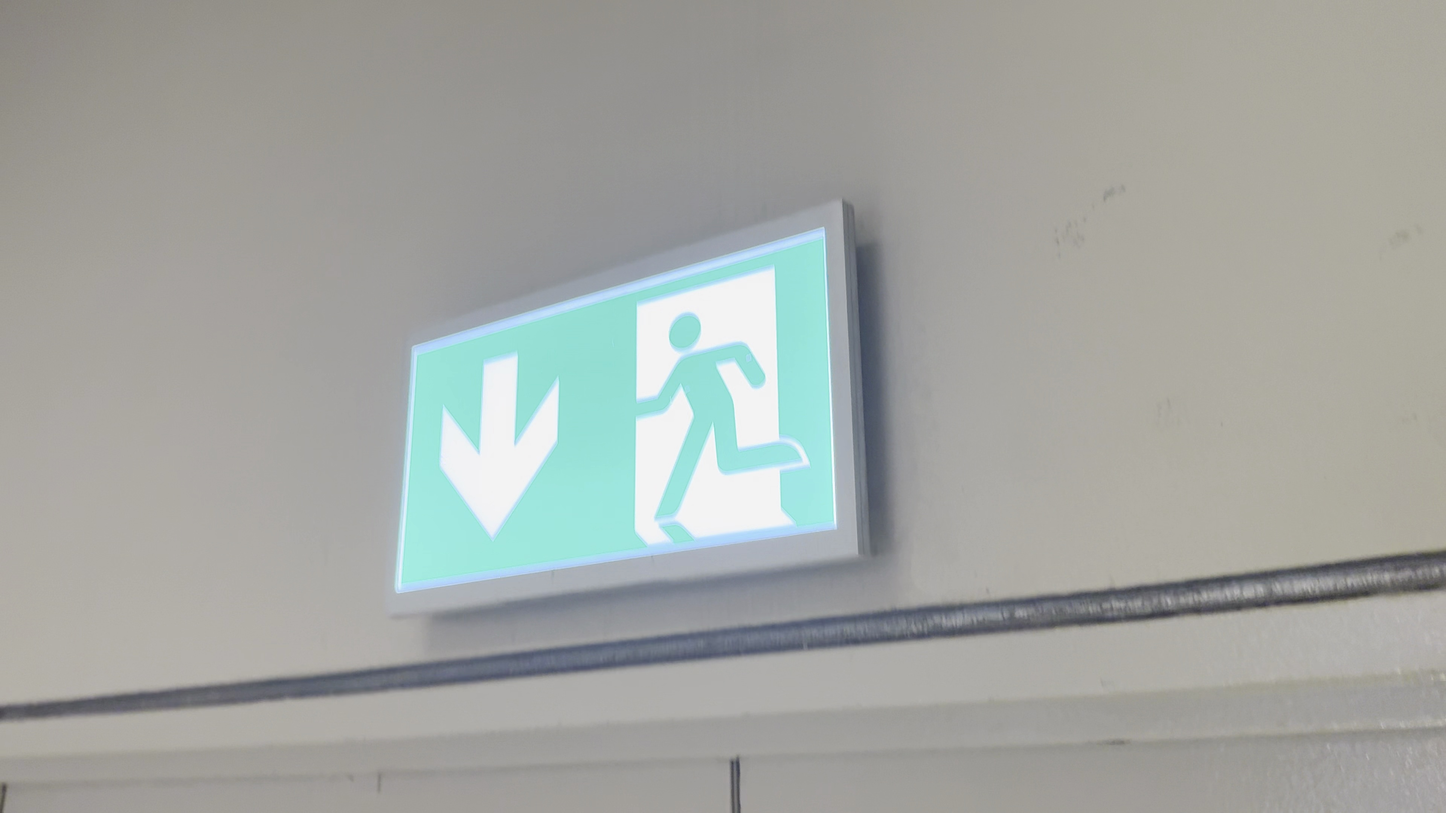emergency_exit: (390, 198, 872, 614)
